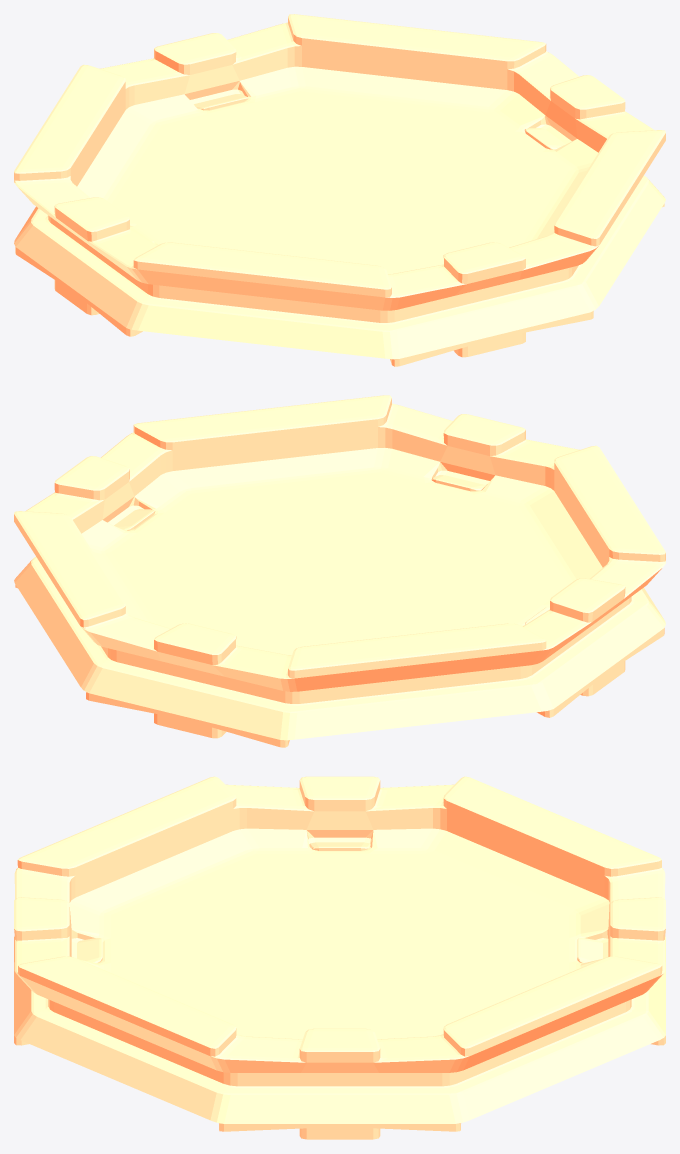
Rendered from Chip.fbx.
The picture shows the model from 3 angles, top to bottom: view 1: azimuth 30°, elevation 25°; view 2: azimuth 150°, elevation 25°; view 3: azimuth 270°, elevation 25°; orthographic projection. The views are drawn at different scales.
Parts seen in each view (by area): view 1: 立方体.001; view 2: 立方体.001; view 3: 立方体.001.
Boxes of the visible parts, x1,y1,x2,y2 form: 立方体.001: (14, 14, 665, 366); 立方体.001: (14, 395, 665, 747); 立方体.001: (14, 776, 665, 1139).
Size of the model in its own units: 200 by 30.7 by 200.
